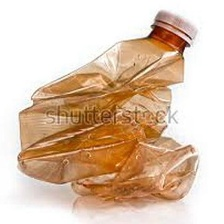bottle: (14, 5, 207, 210)
